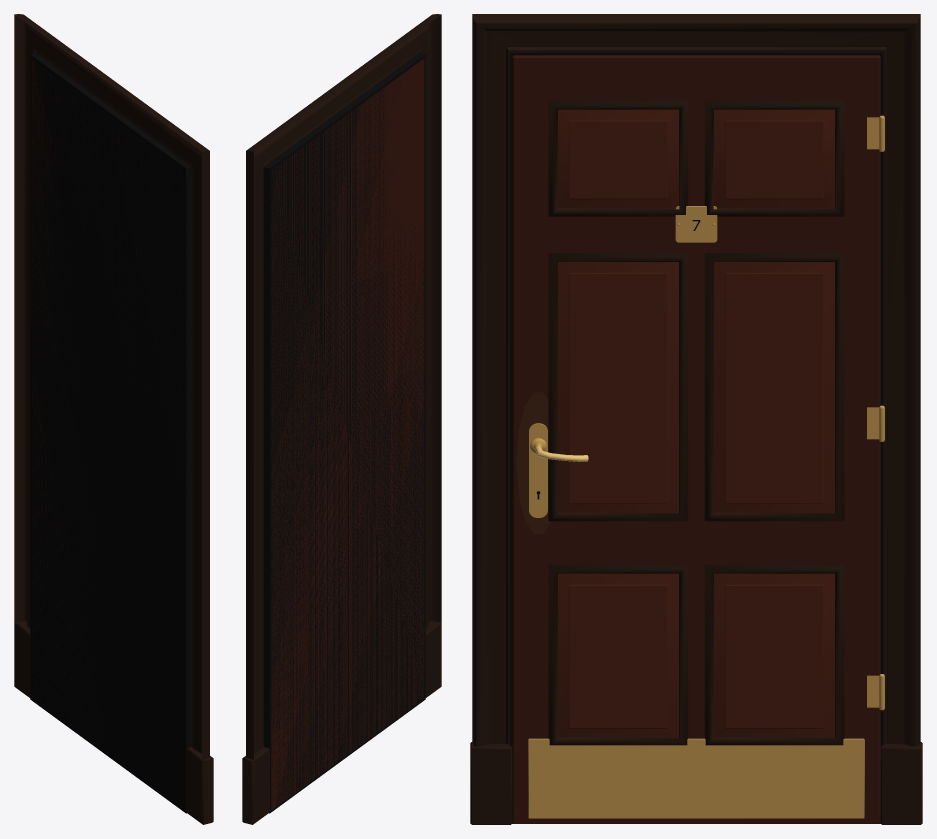
Rendered from hotel_door_b@1.glb.
3 views of the same model, side by side, from view 1: azimuth 30°, elevation 25°; view 2: azimuth 150°, elevation 25°; view 3: azimuth 270°, elevation 25° (orthographic). The views are drawn at different scales.
Parts seen in each view (by area): view 1: fuge, bekleidung, blatt; view 2: fuge, blatt, bekleidung; view 3: fuellungen, blatt, bekleidung, kehlleisten, beschlag, fuge, abrieb, nummernschild.
Boxes of the visible parts, x1,y1,x2,y2 form: fuge: [30, 53, 192, 813]; bekleidung: [14, 14, 213, 824]; blatt: [31, 59, 184, 752]; fuge: [263, 53, 425, 813]; blatt: [271, 58, 424, 810]; bekleidung: [242, 14, 441, 824]; fuellungen: [558, 109, 834, 737]; blatt: [512, 55, 880, 823]; bekleidung: [470, 14, 922, 824]; kehlleisten: [548, 100, 844, 745]; beschlag: [528, 115, 884, 818]; fuge: [510, 51, 882, 823]; abrieb: [516, 392, 550, 533]; nummernschild: [675, 206, 717, 242].
Bounding box in the file's own units: 0.1118 × 2.22 × 1.13.
